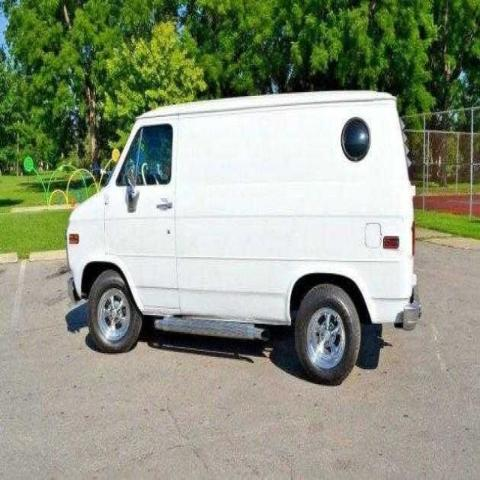van: (65, 90, 422, 386)
